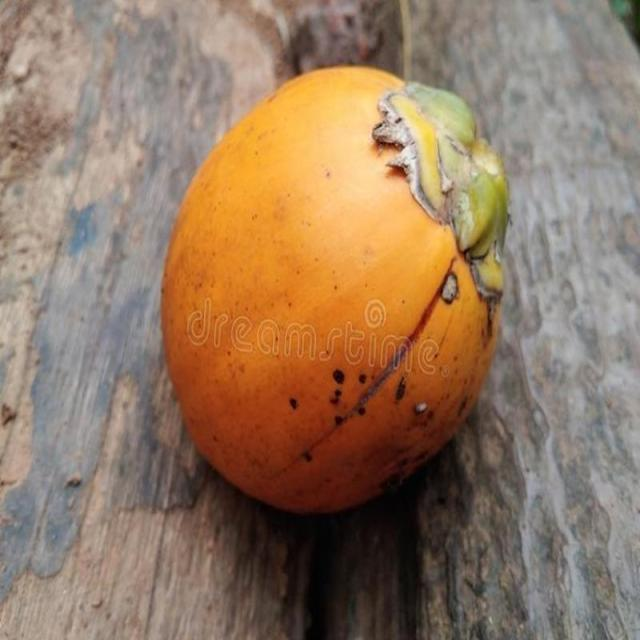good: (160, 66, 510, 518)
